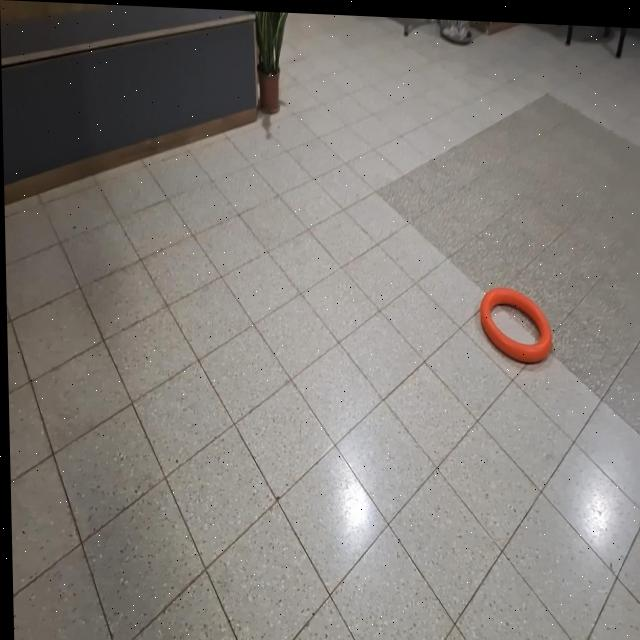note: (476, 282, 549, 360)
